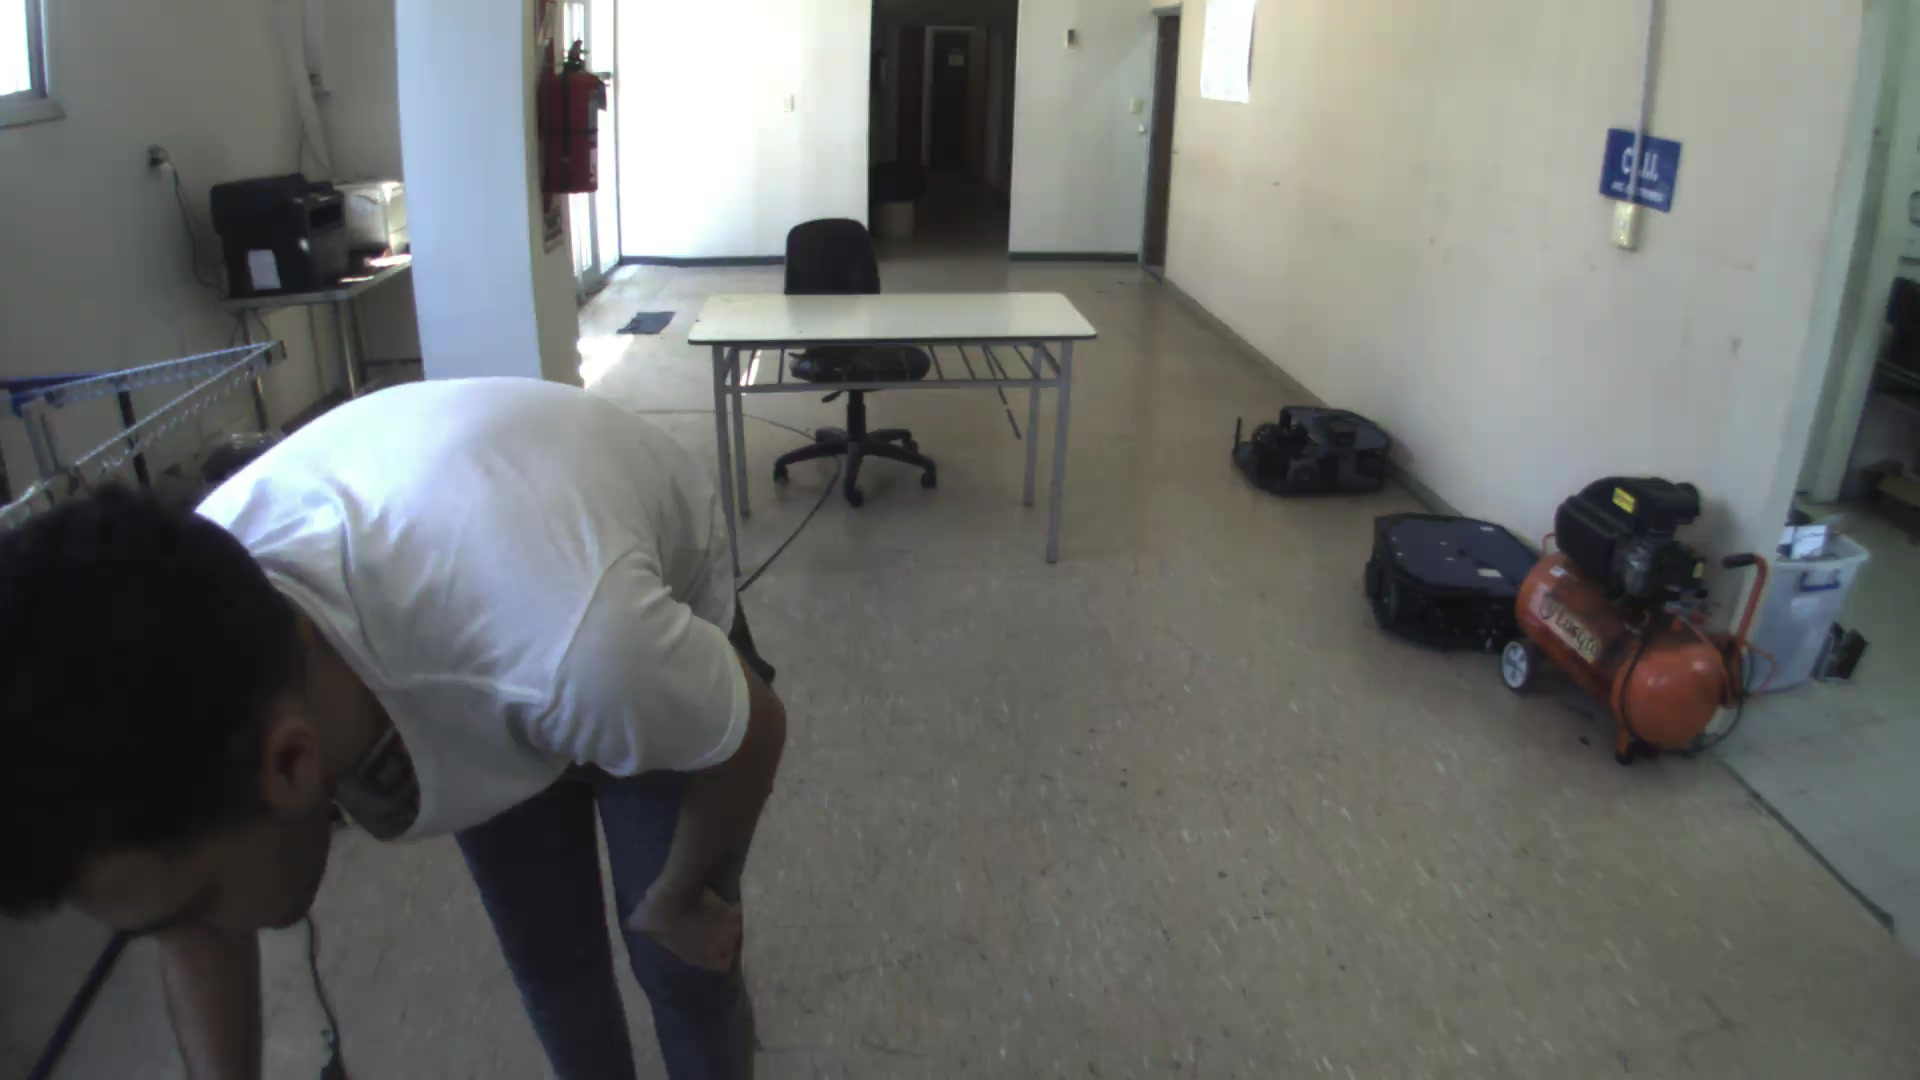hand: (622, 869, 758, 978)
